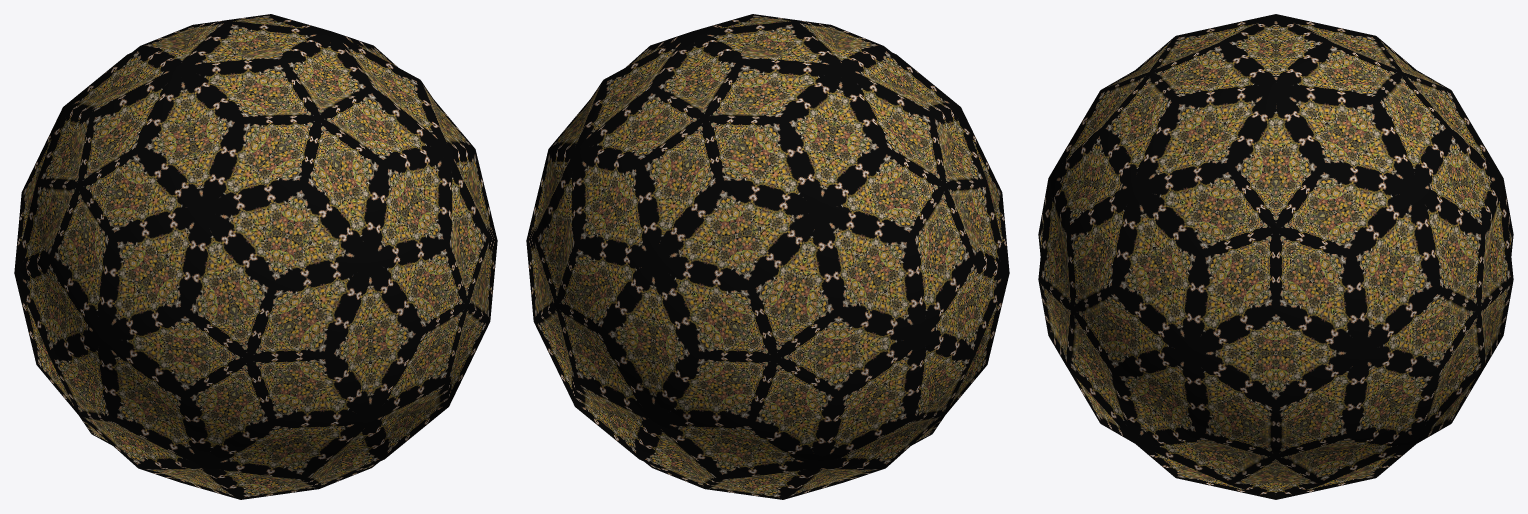
Rendered from SmallHexagonalHexecontahedron2.gltf.
3 views of the same model, side by side, from view 1: azimuth 30°, elevation 25°; view 2: azimuth 150°, elevation 25°; view 3: azimuth 270°, elevation 25° (orthographic).
Parts seen in each view (by area): view 1: SmallHexagonalHexecontahedron; view 2: SmallHexagonalHexecontahedron; view 3: SmallHexagonalHexecontahedron.
Part boxes in pixels (<box>): SmallHexagonalHexecontahedron: <box>14,14,497,499</box>; SmallHexagonalHexecontahedron: <box>526,14,1009,499</box>; SmallHexagonalHexecontahedron: <box>1038,14,1513,499</box>.
Bounding box in the file's own units: 2.73 × 2.73 × 2.73.
1 material, 1 textured.
